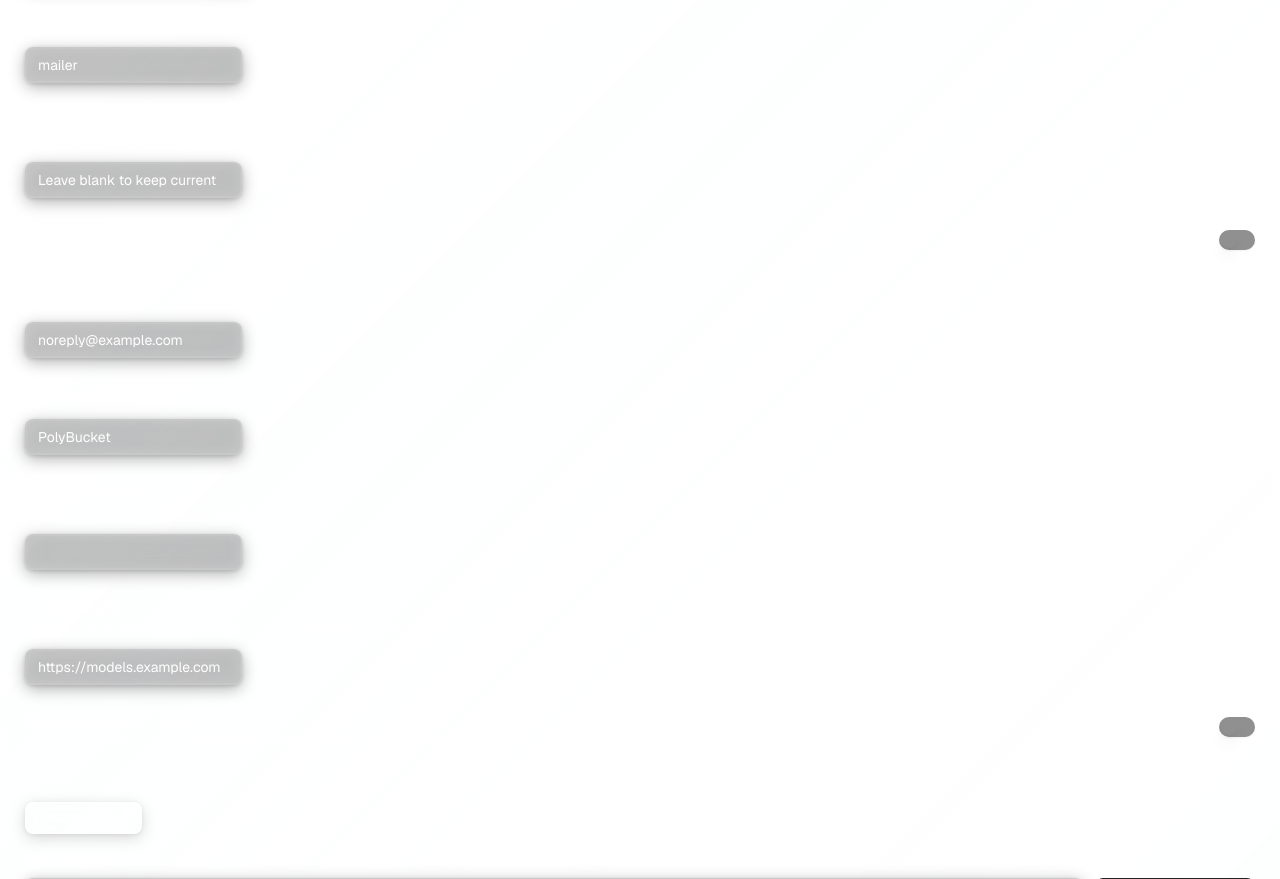
Test: EmailSettingsSection › disables the test button while there are unsaved changes
(page scrolled)
Step 1. Type "Makers" into the field named "From name" → coordinates (134, 437), box [25,419,242,455]
(page scrolled)
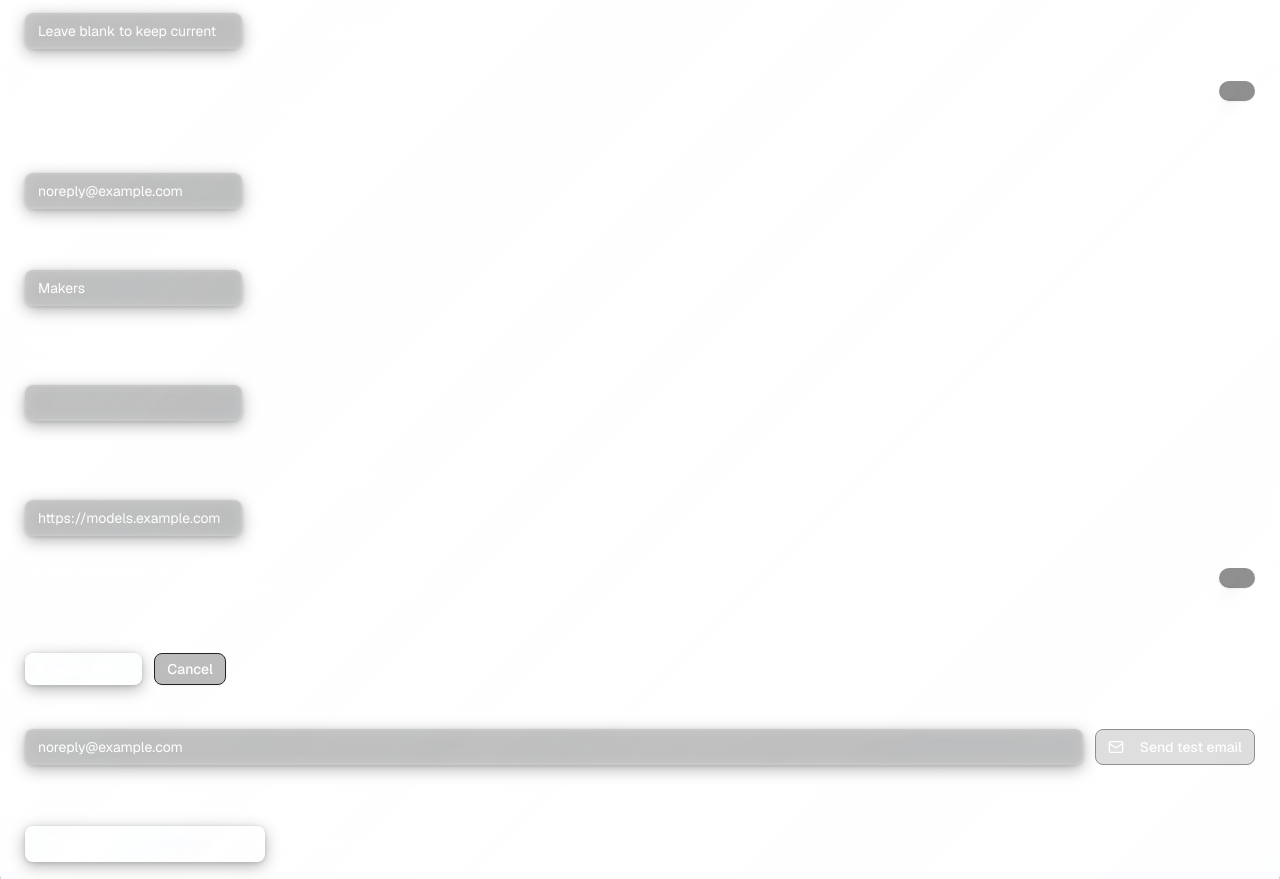
Expected: the button "Send test email" is disabled, [1095,729,1255,765]
